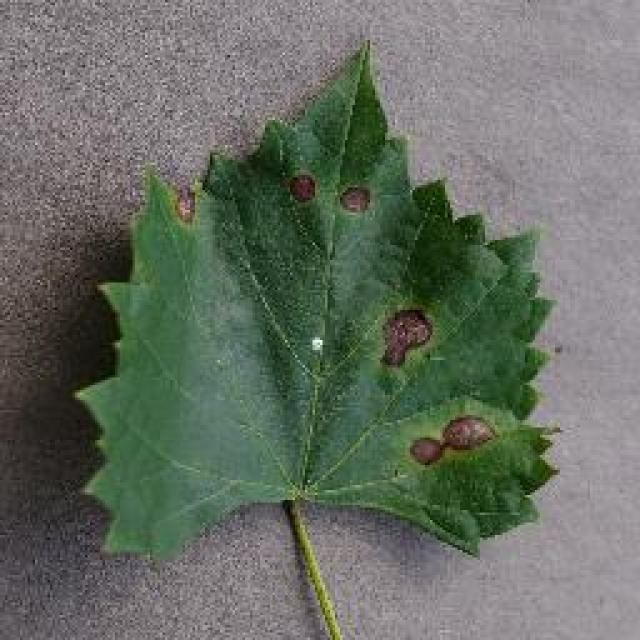Grape___Black_rot: (66, 32, 567, 573)
